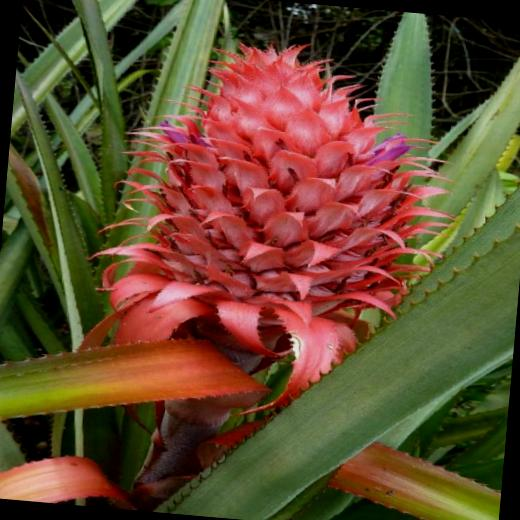Mango: (72, 25, 478, 475)
